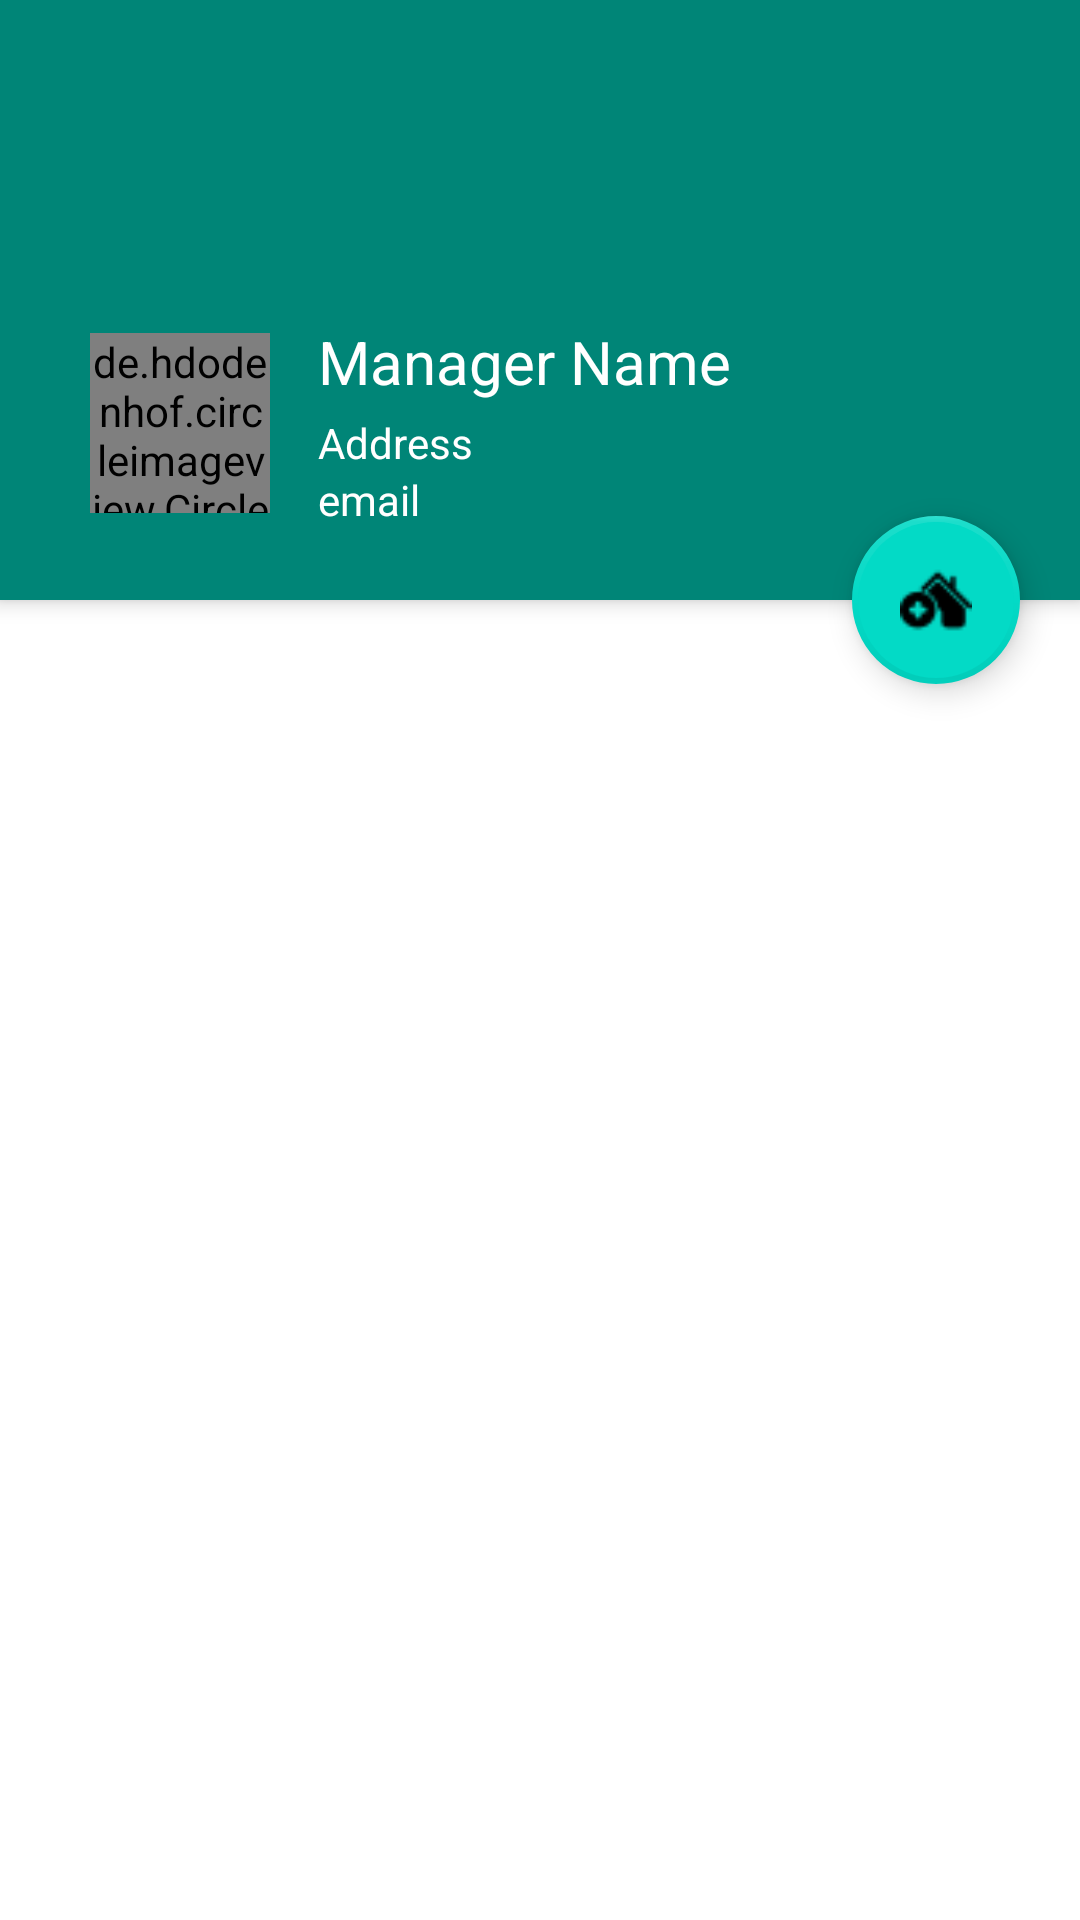

Icons on this 1080×1920 Android screen, each with the point to tap as (x=x, y=y):
add house: (x=936, y=600)
